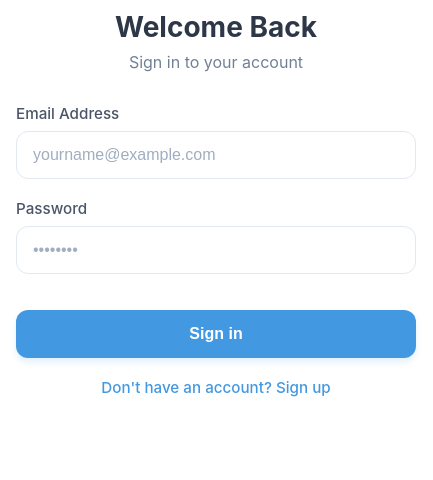
Login Component › testing when login fails without error message and displays default error
Type "test@gmail.com" into the field with placeholder "yourname@example.com" at (216, 155), box [16, 131, 416, 179]
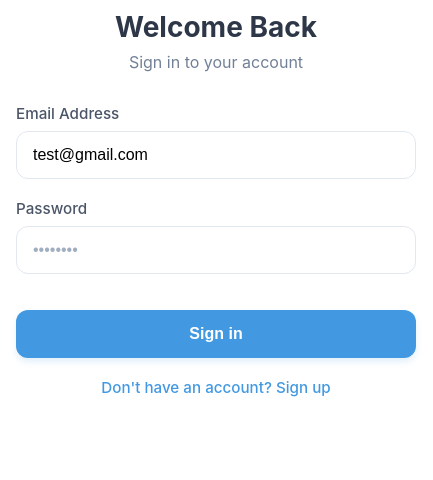
Type "123456" into the password field with placeholder "••••••••" at (216, 250), box [16, 226, 416, 274]
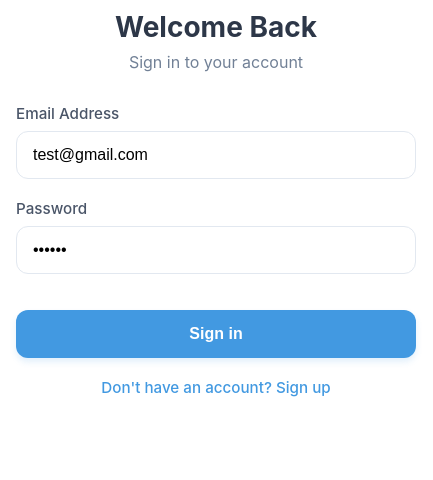
Click the button "Sign in" at (216, 334), box [16, 310, 416, 358]
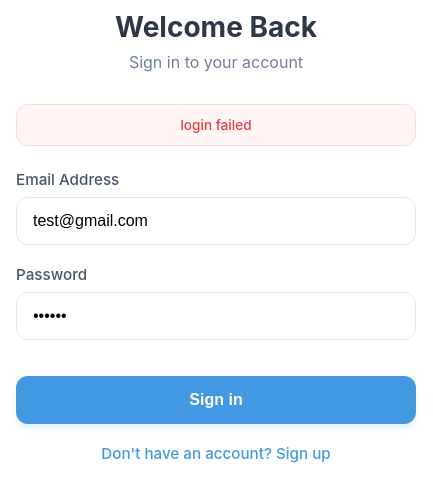
Expected: the text "login failed" is shown, [16, 104, 416, 146]
